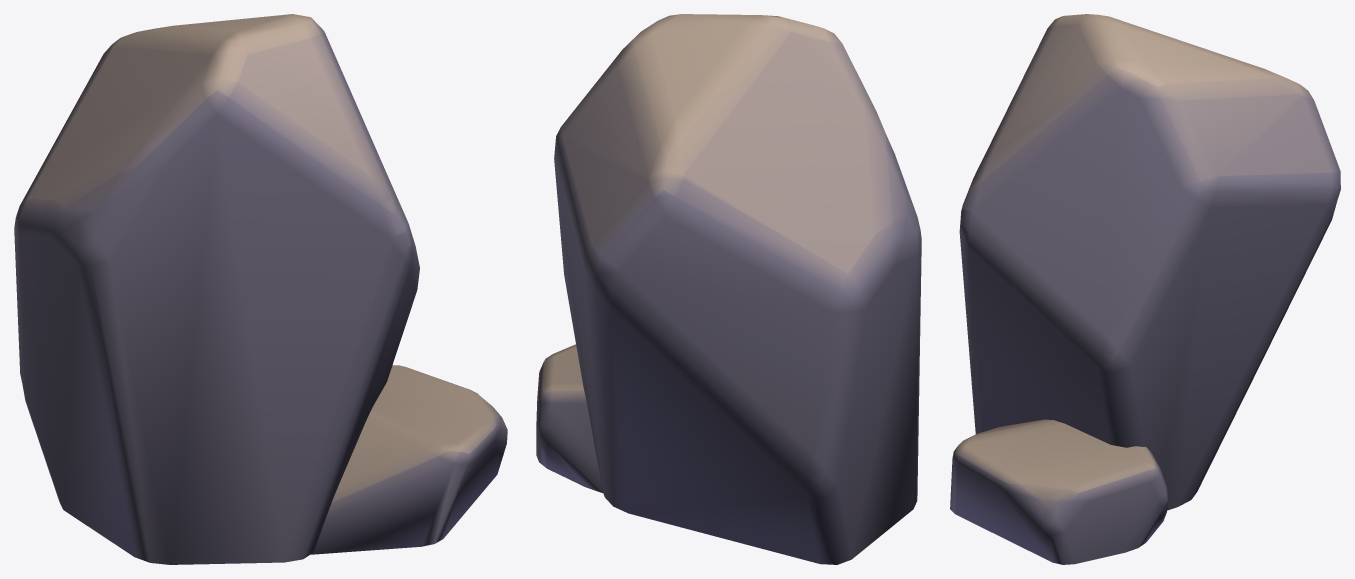
Rendered from BoulderLarge2.fbx.
3 renders of one model, left to right at view 1: azimuth 30°, elevation 25°; view 2: azimuth 150°, elevation 25°; view 3: azimuth 270°, elevation 25°, orthographic. The views are drawn at different scales.
Visible parts, largest first — view 1: BoulderLarge2; view 2: BoulderLarge2; view 3: BoulderLarge2.
Part boxes in pixels (x1,y1,x2,y2): BoulderLarge2: (14, 14, 507, 564); BoulderLarge2: (536, 14, 921, 564); BoulderLarge2: (950, 14, 1340, 564).
Size of the model in its own units: 3.43 by 3.86 by 3.12.
